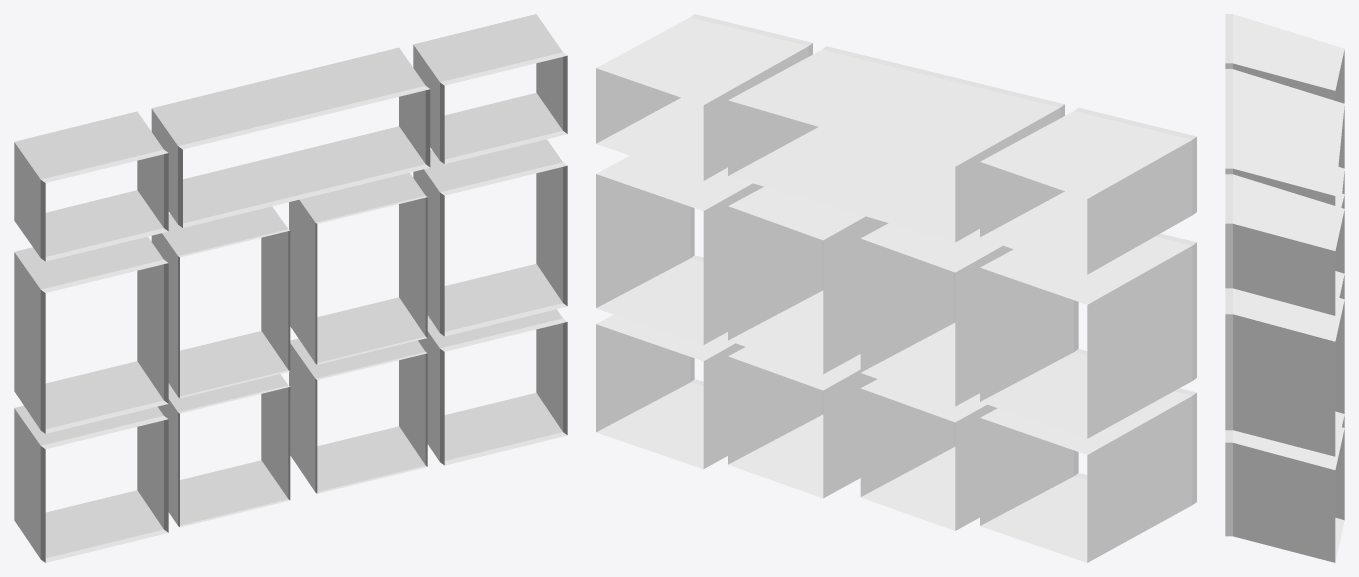
File: set_add_effect_l_door_b.fbx
3 renders of one model, left to right at view 1: azimuth 30°, elevation 25°; view 2: azimuth 150°, elevation 25°; view 3: azimuth 270°, elevation 25°, orthographic. The views are drawn at different scales.
Visible parts, largest first — view 1: door_b_window_add_effect_l, door_b_02_add_effect_l, door_b_01_add_effect_l; view 2: door_b_window_add_effect_l, door_b_02_add_effect_l, door_b_01_add_effect_l; view 3: door_b_window_add_effect_l.
Part boxes in pixels (<box>): door_b_window_add_effect_l: <box>14,14,567,562</box>; door_b_02_add_effect_l: <box>289,173,427,493</box>; door_b_01_add_effect_l: <box>151,206,290,527</box>; door_b_window_add_effect_l: <box>596,14,1196,562</box>; door_b_02_add_effect_l: <box>728,186,888,498</box>; door_b_01_add_effect_l: <box>860,223,1013,530</box>; door_b_window_add_effect_l: <box>1225,14,1344,562</box>.
Size of the model in its own units: 412 by 283 by 92.94.
